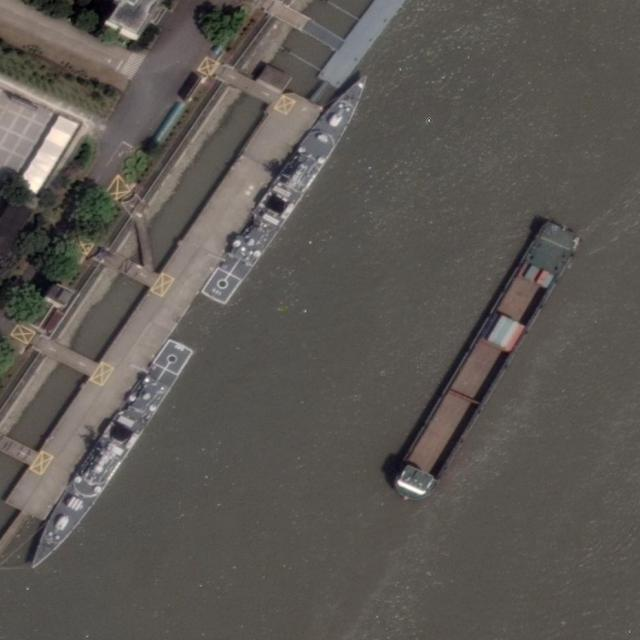Container Ship: (384, 216, 584, 509)
Frigate: (16, 335, 199, 582), (202, 67, 378, 310)
